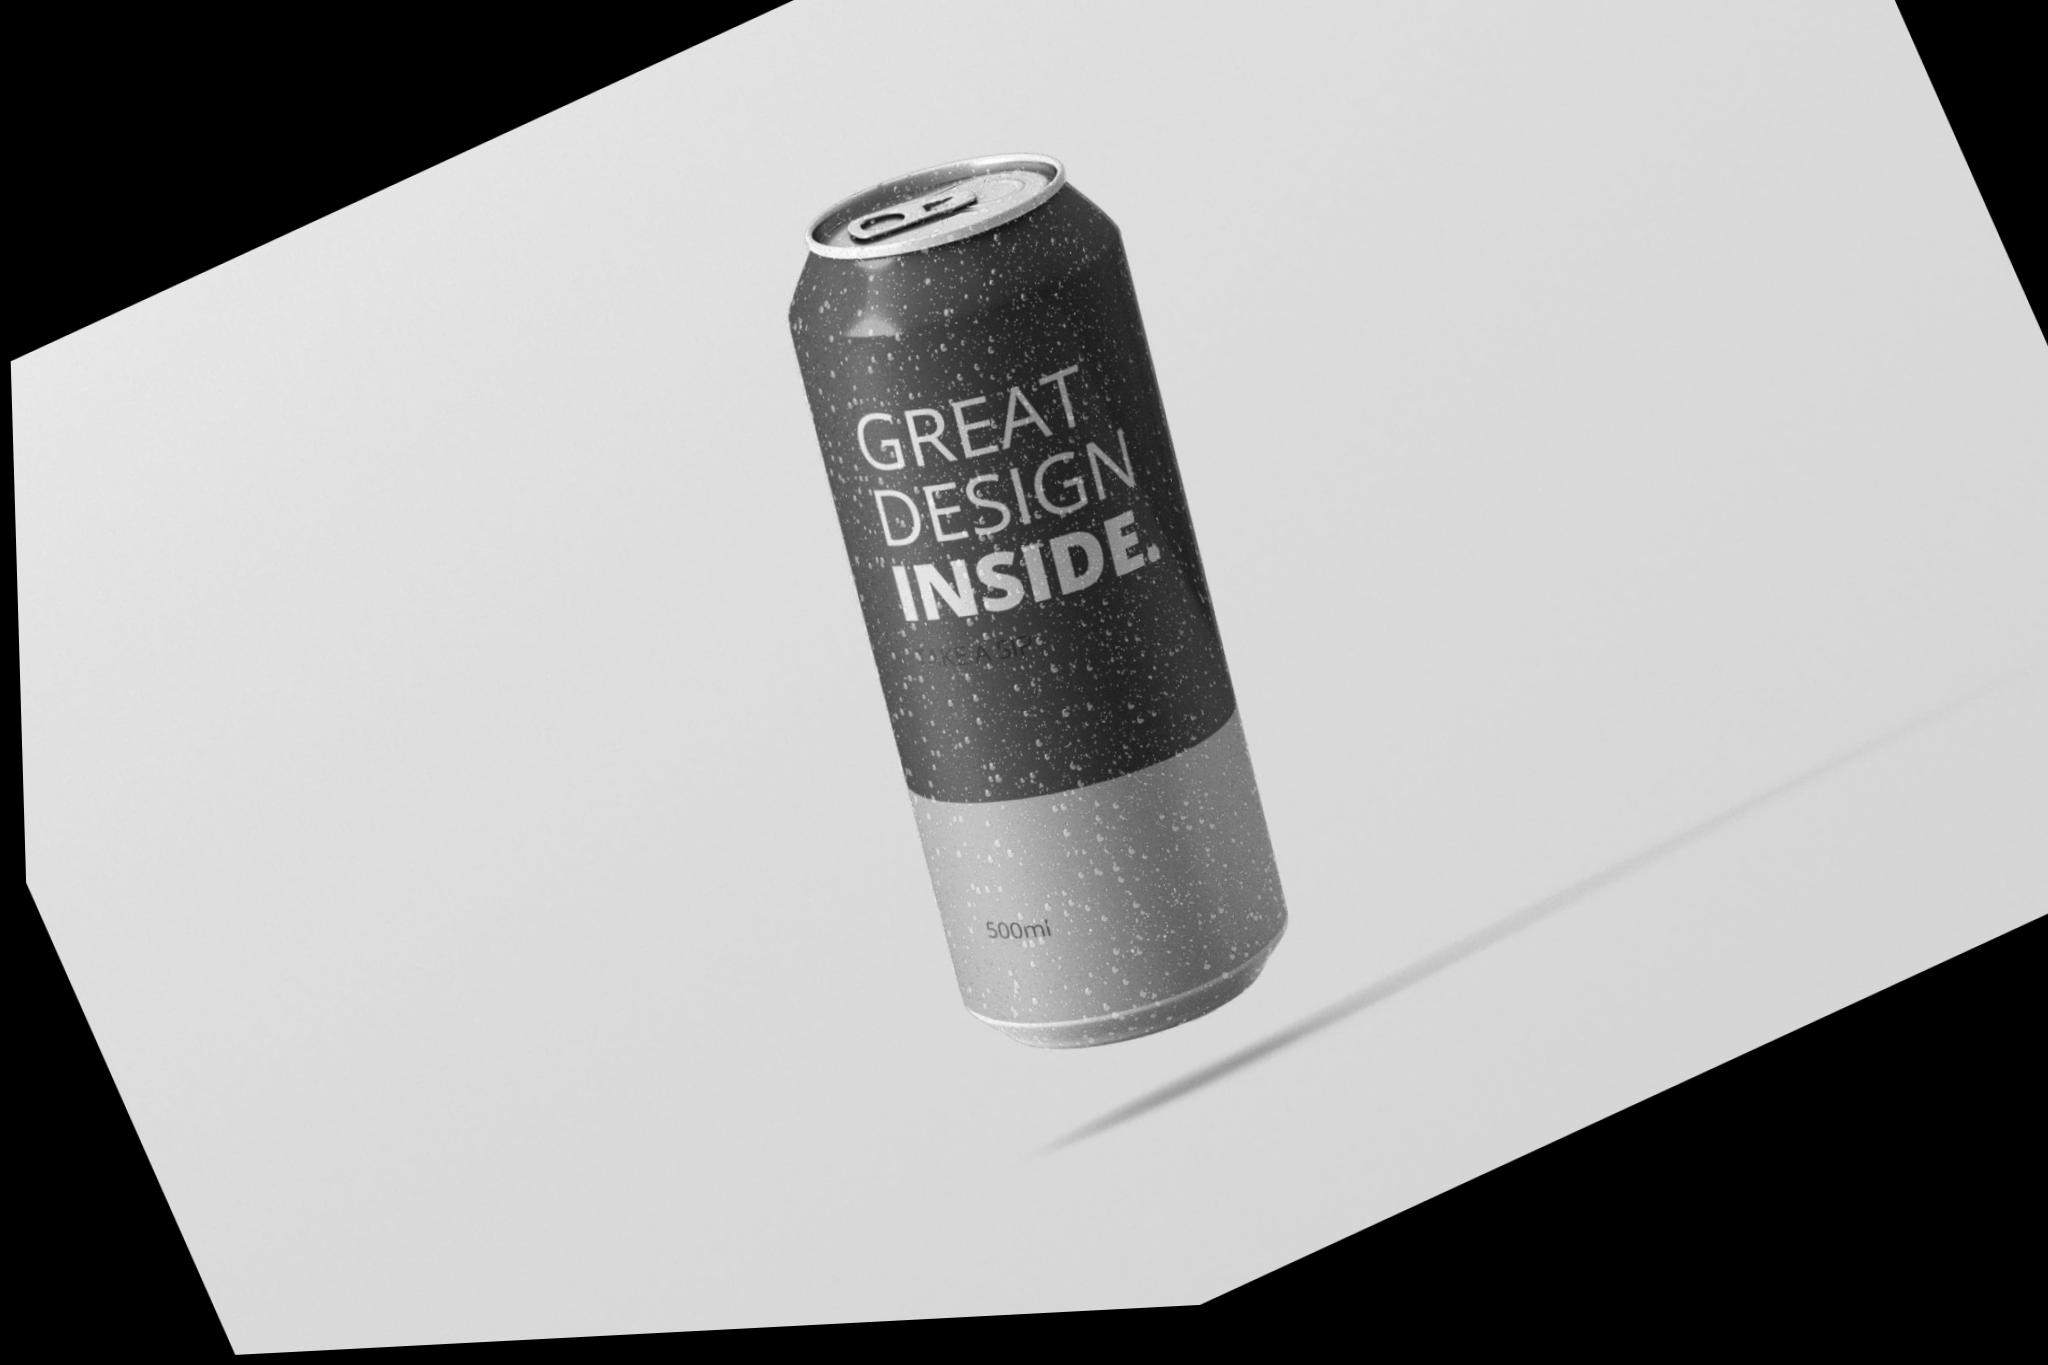metal: (789, 152, 1288, 1048)
